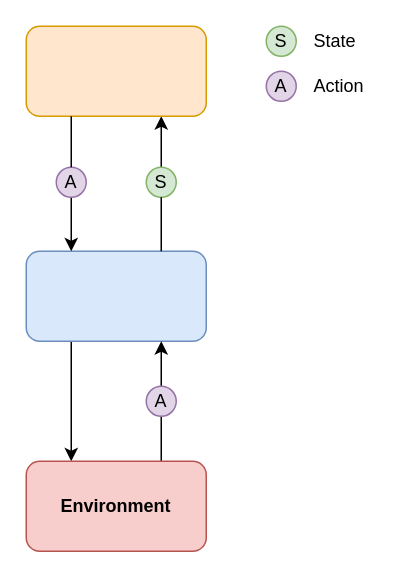
Some shapes in this 413 by 578 pixel diagram are drawn without their labels. The shapes that lost their labels are listed below. From the top down, each one's centre as x and y in pixels, then its label:
At point 115,70: "View".
At point 115,295: "Store".
